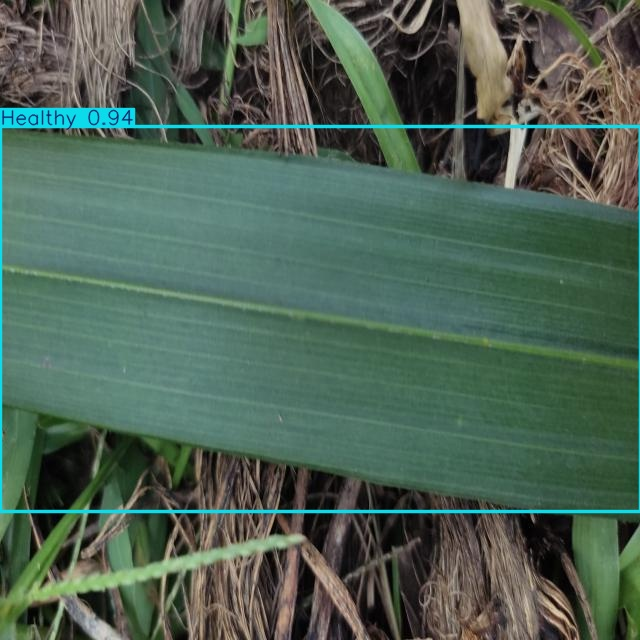Healthy: (0, 126, 640, 512)
